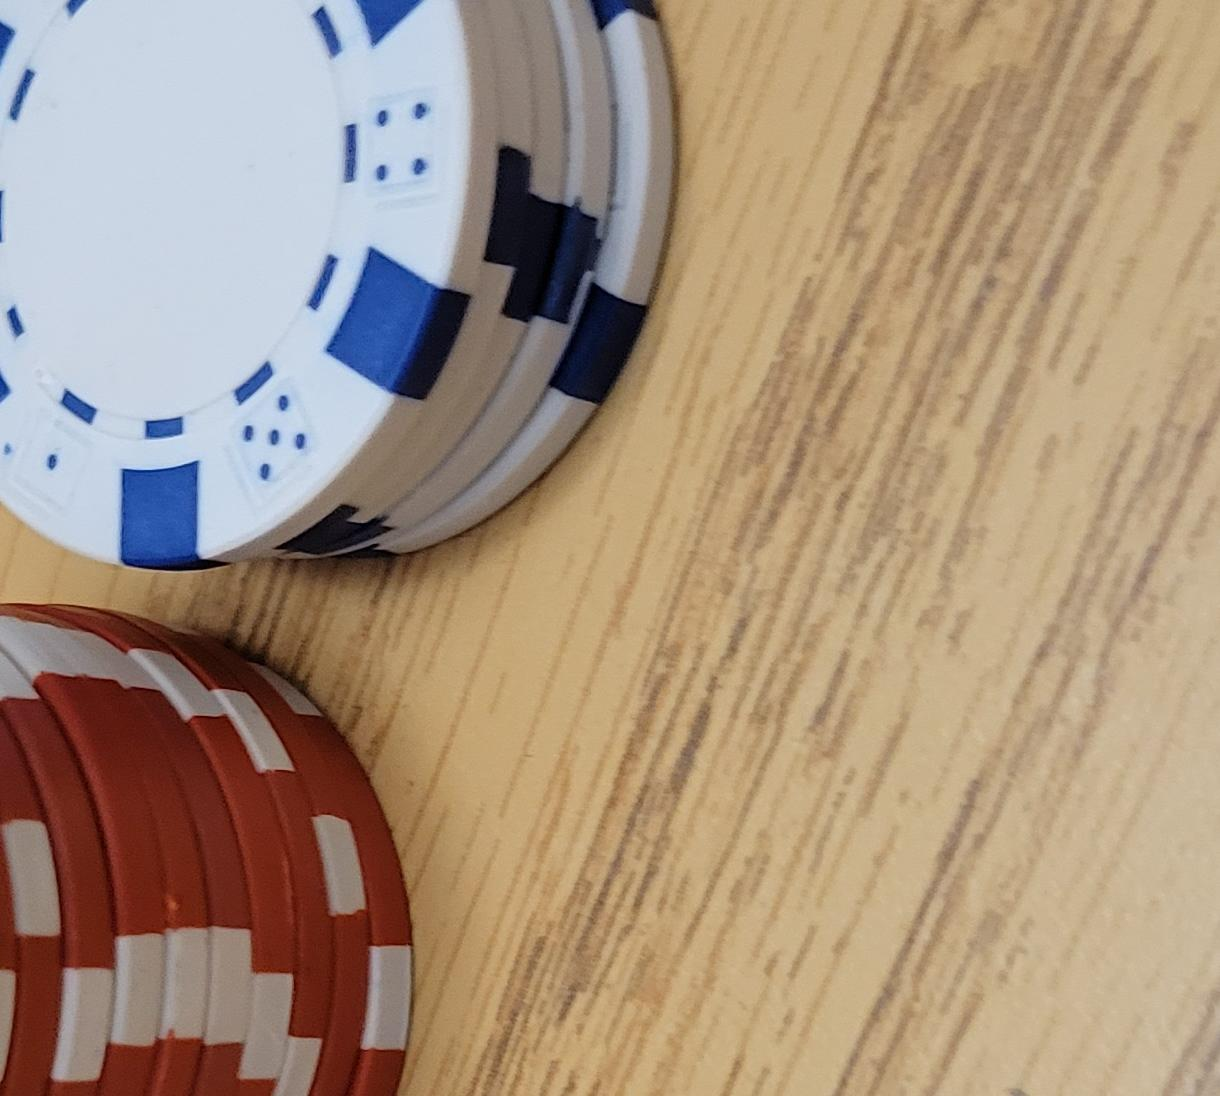Chip: (1, 150, 531, 1096)
